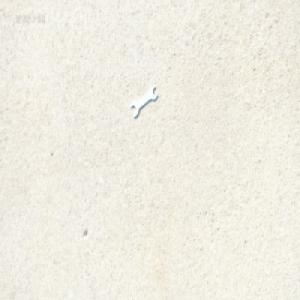Wrench: (129, 85, 158, 118)
